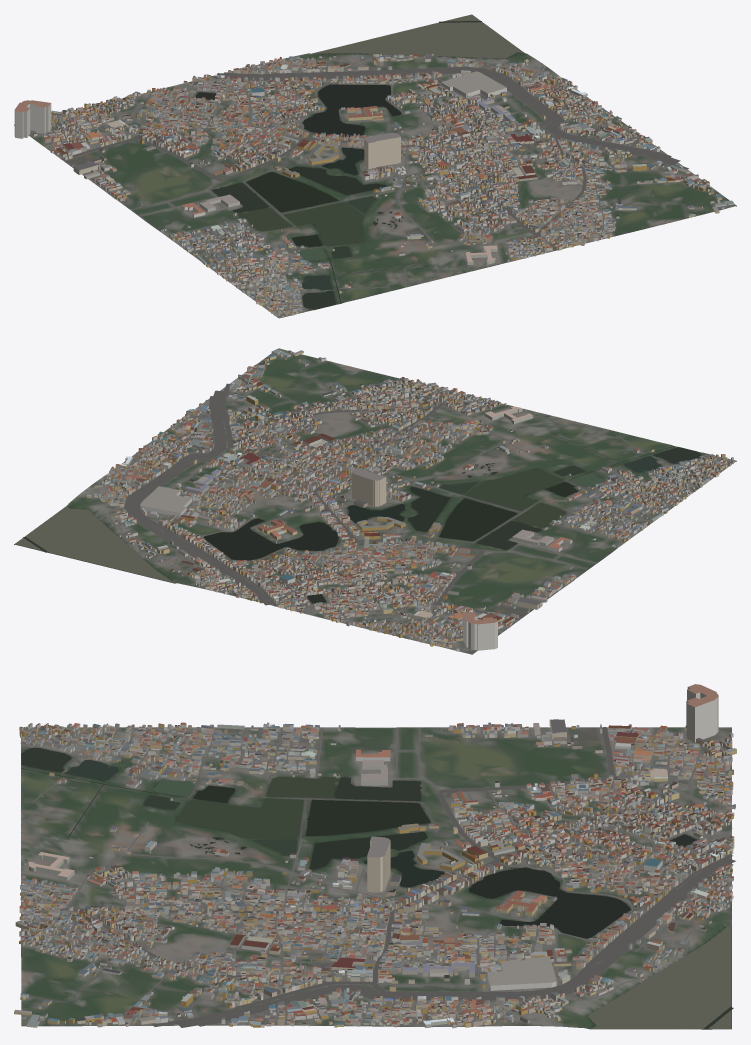
The picture shows the model from 3 angles, top to bottom: view 1: azimuth 30°, elevation 25°; view 2: azimuth 150°, elevation 25°; view 3: azimuth 270°, elevation 25°; orthographic projection. The views are drawn at different scales.
Visible parts, largest first — view 1: buildings, ground, water, roads; view 2: buildings, ground, water, roads; view 3: buildings, ground, water, roads.
Boxes of the visible parts, x1,y1,x2,y2 form: buildings: (14,52,734,317); ground: (14,20,736,318); water: (195,14,523,308); roads: (30,54,735,317); buildings: (87,349,733,651); ground: (14,348,736,654); water: (15,432,701,603); roads: (84,348,735,652); buildings: (14,684,736,1028); ground: (21,727,731,1029); water: (21,747,733,1029); roads: (20,727,735,1027).
Bounding box in the file's own units: 1449 × 84.07 × 1426.
